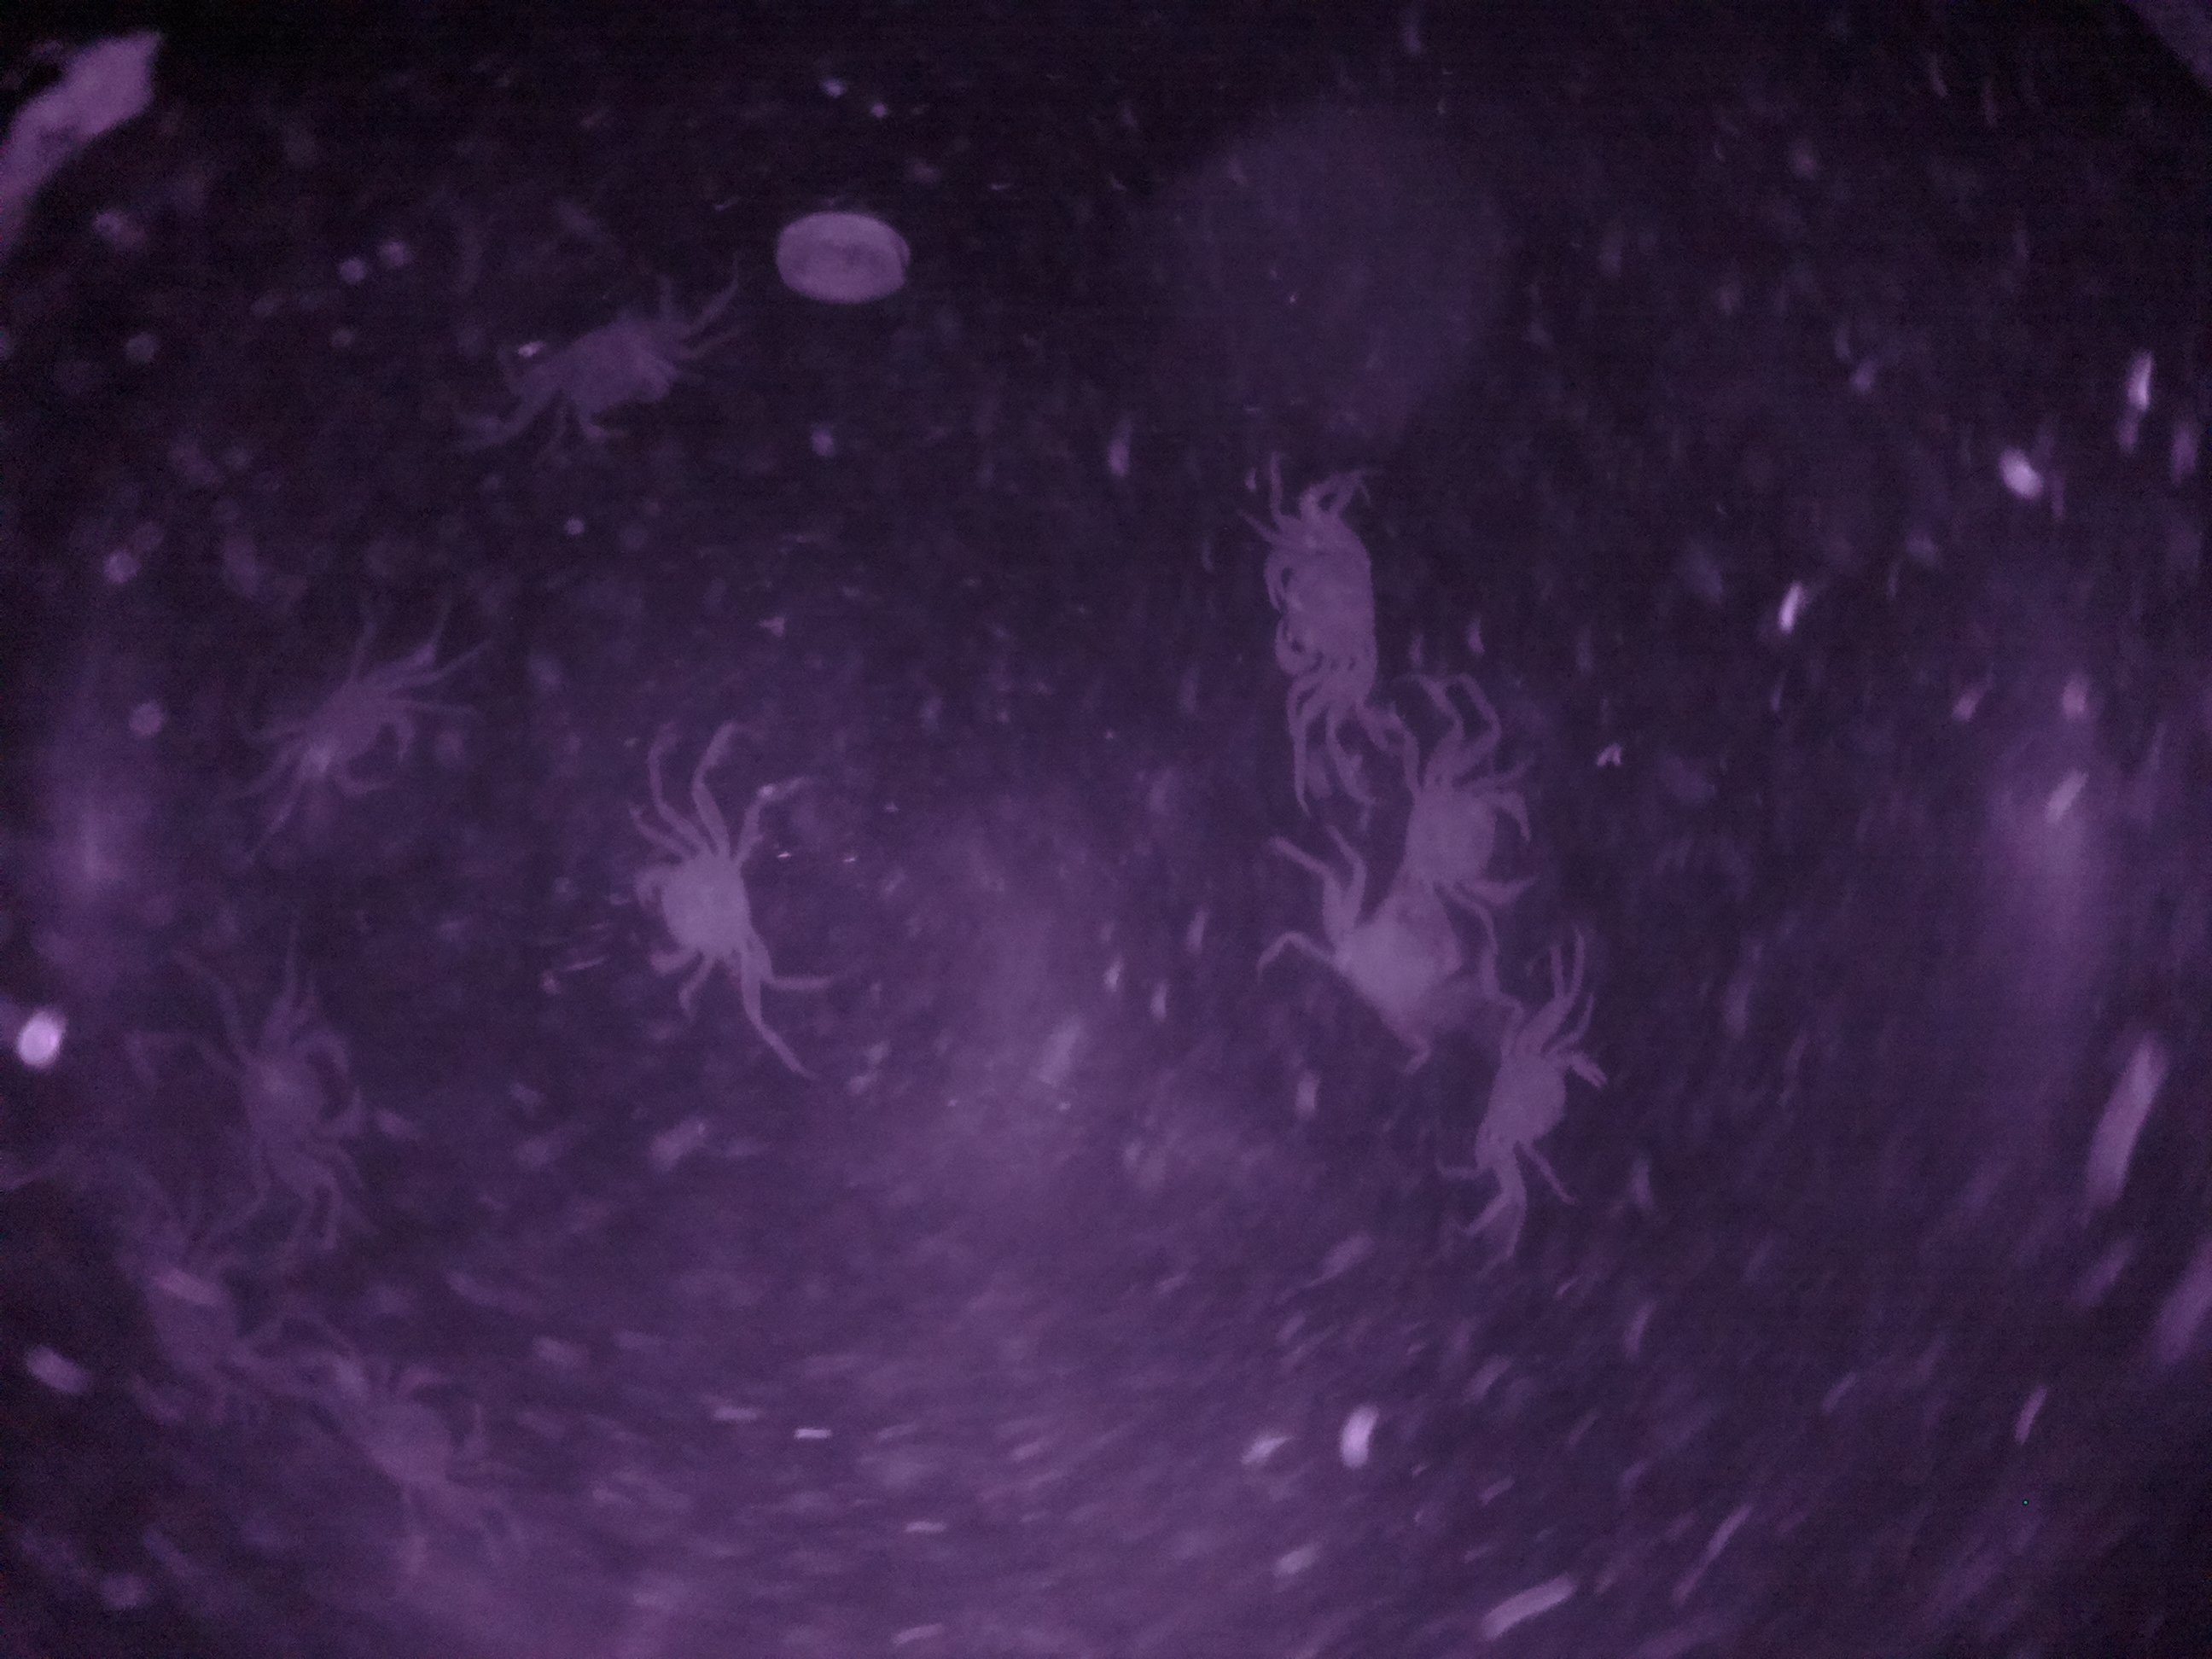Crab: (603, 795, 819, 1021), (1254, 502, 1390, 746), (1447, 995, 1602, 1202)
